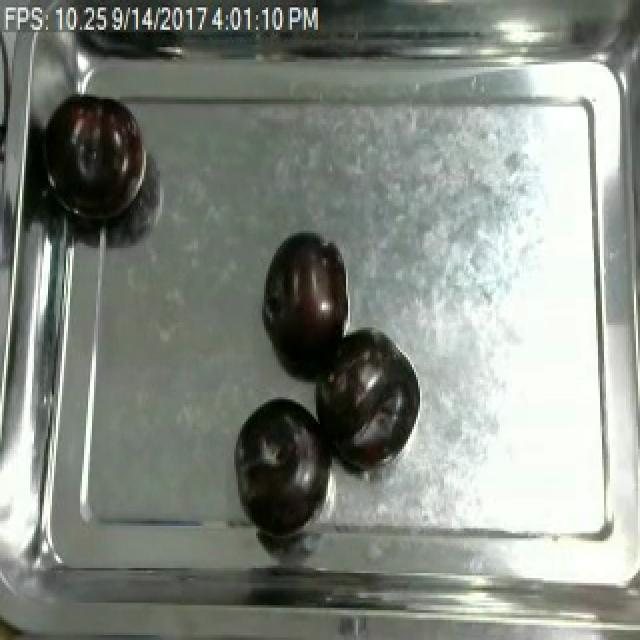Fruit: (314, 325, 420, 471), (230, 389, 334, 534), (52, 87, 156, 226), (258, 226, 350, 374)
